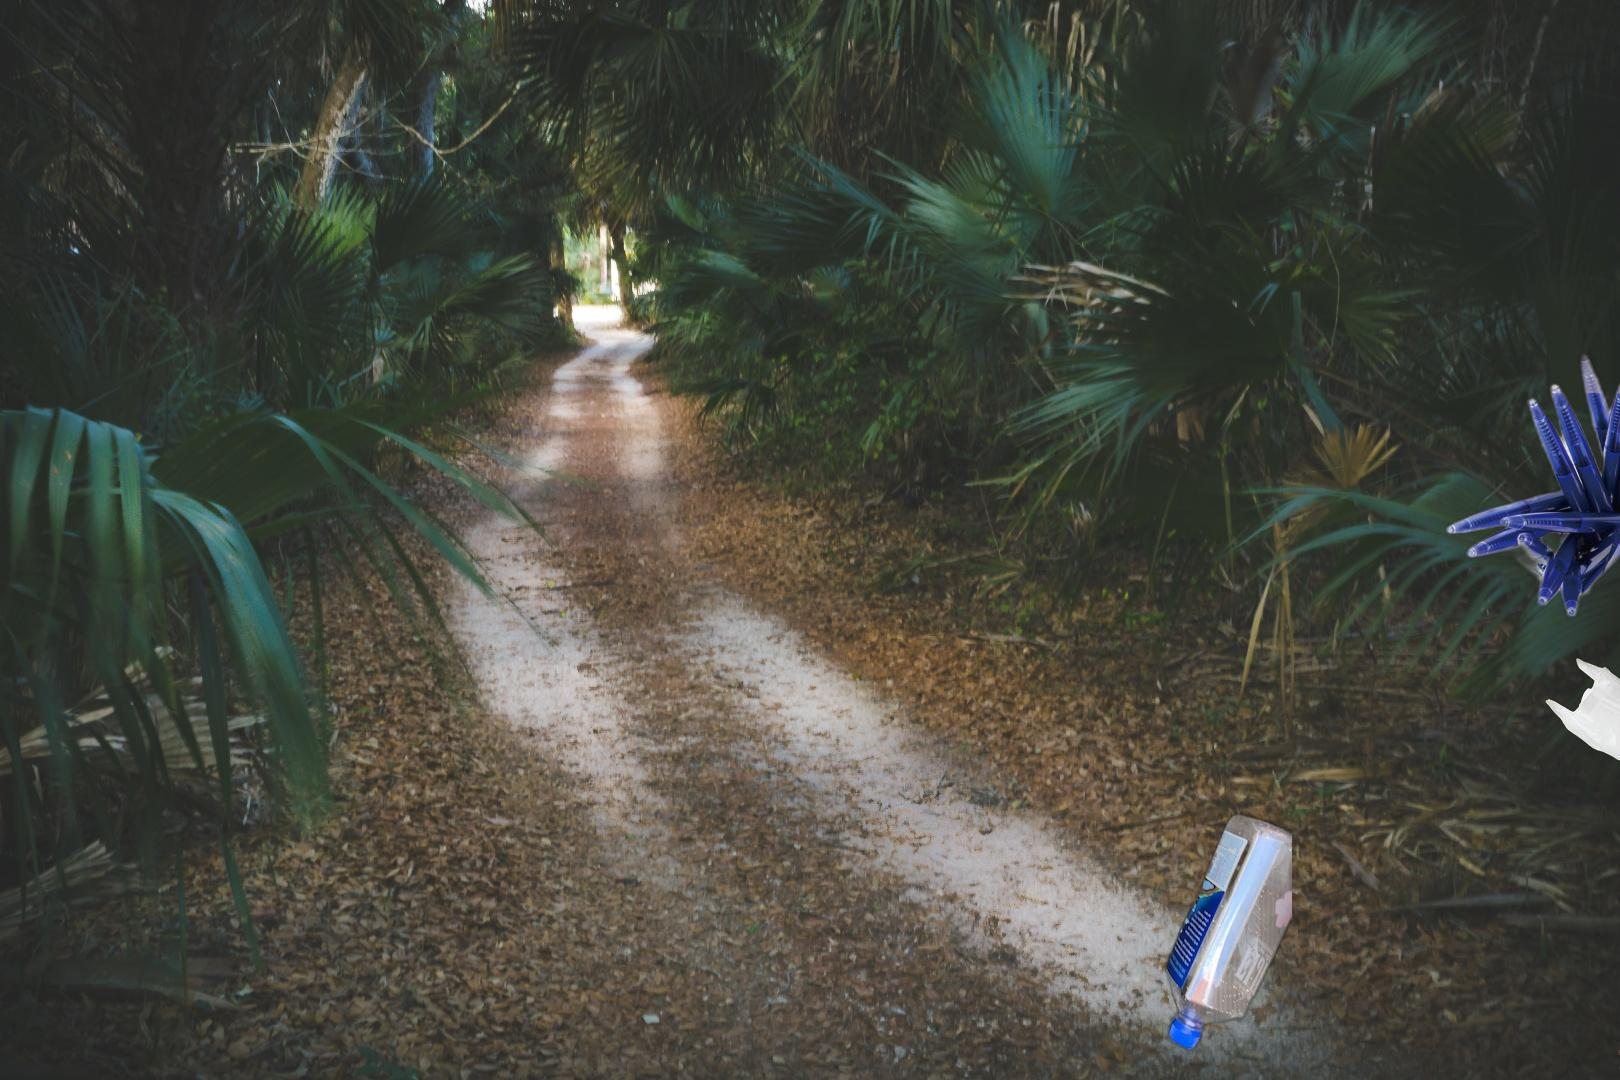penholder: (1438, 351, 1620, 796)
plastic-bag: (1542, 657, 1620, 762)
plastic-bottles: (877, 524, 1292, 1056)
trashbox-cardboard: (1613, 899, 1620, 1080)
